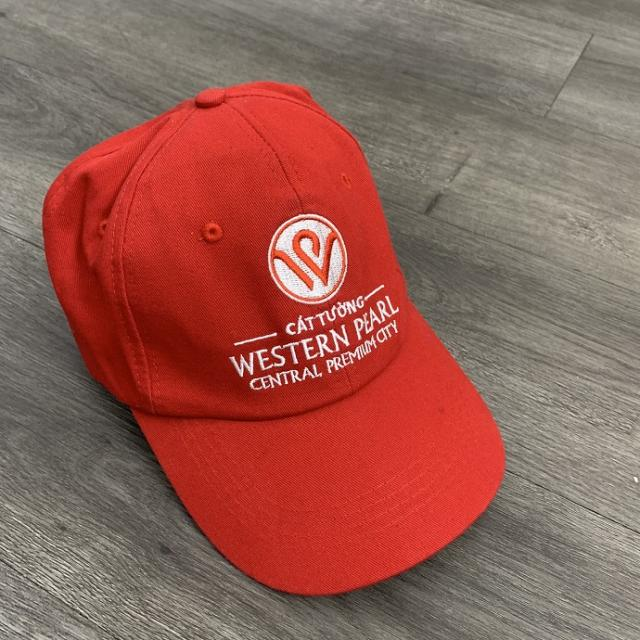no_helmet: (29, 68, 516, 601)
